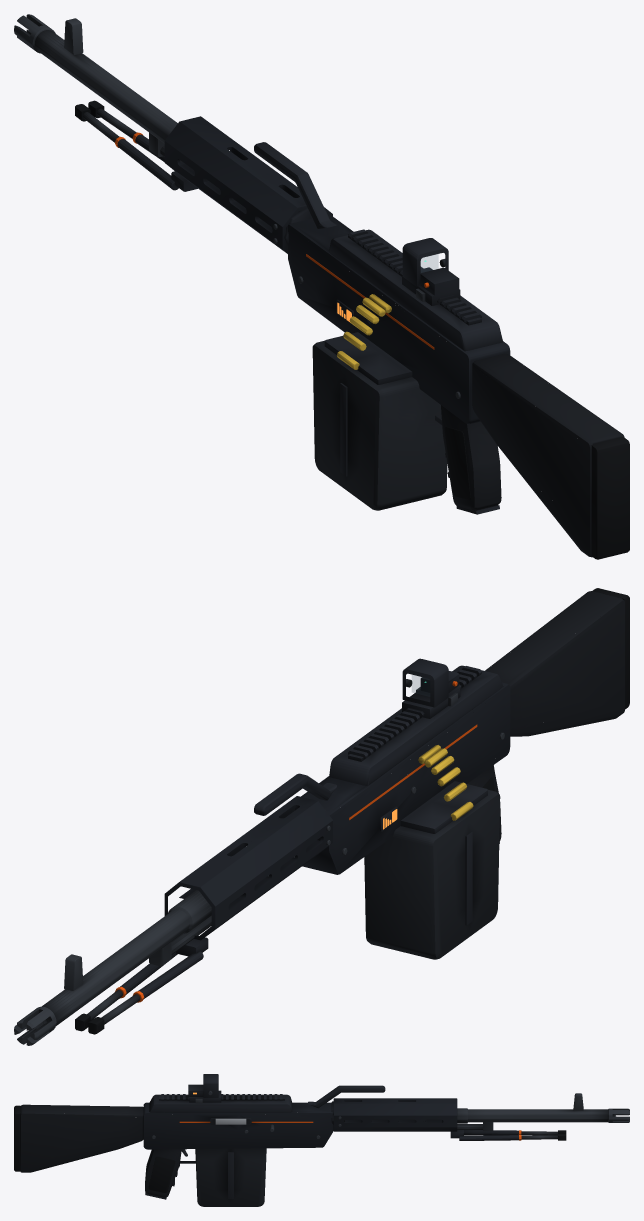
3 renders of one model, top to bottom at view 1: azimuth 30°, elevation 25°; view 2: azimuth 150°, elevation 25°; view 3: azimuth 270°, elevation 25°, orthographic. The views are drawn at different scales.
Visible parts, largest first — view 1: body_frame, body_polymer, mag_furn, body_frame2, body_steel, body_rubber, mag_frame2, body_brass; view 2: body_frame, mag_furn, body_polymer, body_frame2, body_steel, mag_frame2, body_rubber, body_brass; view 3: body_frame, body_polymer, body_frame2, mag_furn, body_steel, body_rubber, mag_frame2, bolt_bolt, body_accent.
Part boxes in pixels (<box>): body_frame: <box>164,116,510,424</box>; body_polymer: <box>441,353,624,557</box>; mag_furn: <box>312,340,447,510</box>; body_frame2: <box>117,134,502,514</box>; body_steel: <box>14,14,460,398</box>; body_rubber: <box>75,100,629,559</box>; mag_frame2: <box>324,332,412,476</box>; body_brass: <box>337,294,391,369</box>; body_frame: <box>164,682,510,940</box>; mag_furn: <box>364,789,500,959</box>; body_polymer: <box>467,591,624,841</box>; body_frame2: <box>120,658,503,999</box>; body_steel: <box>14,679,504,1045</box>; mag_frame2: <box>400,781,487,925</box>; body_rubber: <box>75,588,629,1034</box>; body_brass: <box>418,745,473,820</box>; body_frame: <box>143,1098,457,1149</box>; body_polymer: <box>20,1104,250,1197</box>; body_frame2: <box>145,1074,518,1199</box>; mag_furn: <box>195,1148,266,1206</box>; body_steel: <box>152,1090,629,1156</box>; body_rubber: <box>14,1105,566,1192</box>; mag_frame2: <box>228,1152,233,1198</box>; bolt_bolt: <box>215,1118,246,1124</box>; body_accent: <box>179,1121,521,1140</box>.
Size of the model in its own units: 0.1205 by 0.275 by 1.2.
